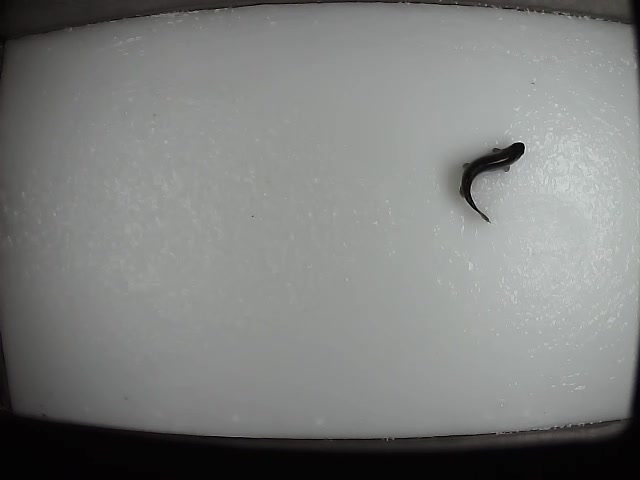Fish: (459, 142, 524, 223)
